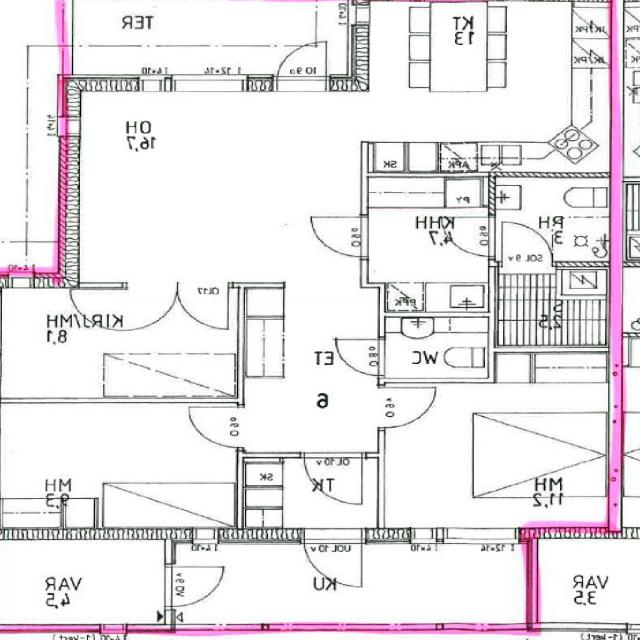door: (305, 528, 362, 589), (304, 453, 362, 503), (277, 36, 326, 91), (165, 566, 224, 606), (311, 217, 369, 257), (378, 387, 436, 427), (188, 408, 245, 447), (127, 283, 177, 327), (178, 283, 228, 327), (502, 222, 552, 266), (440, 217, 495, 256), (334, 340, 385, 375)
